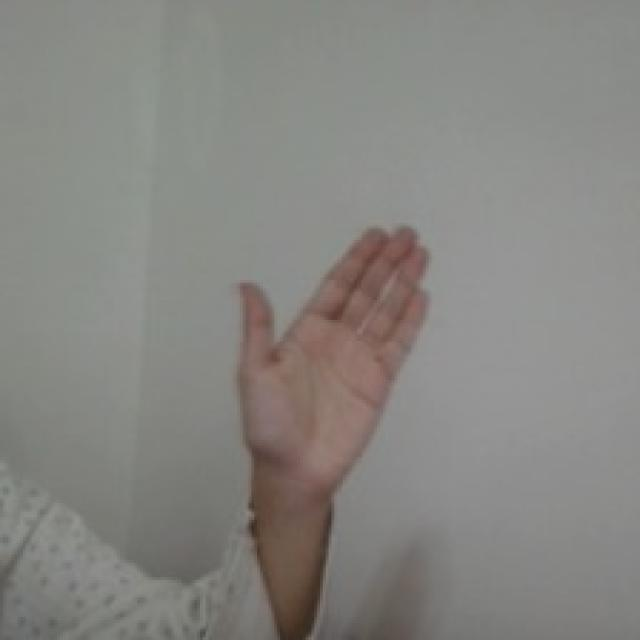Hello: (230, 212, 436, 497)
